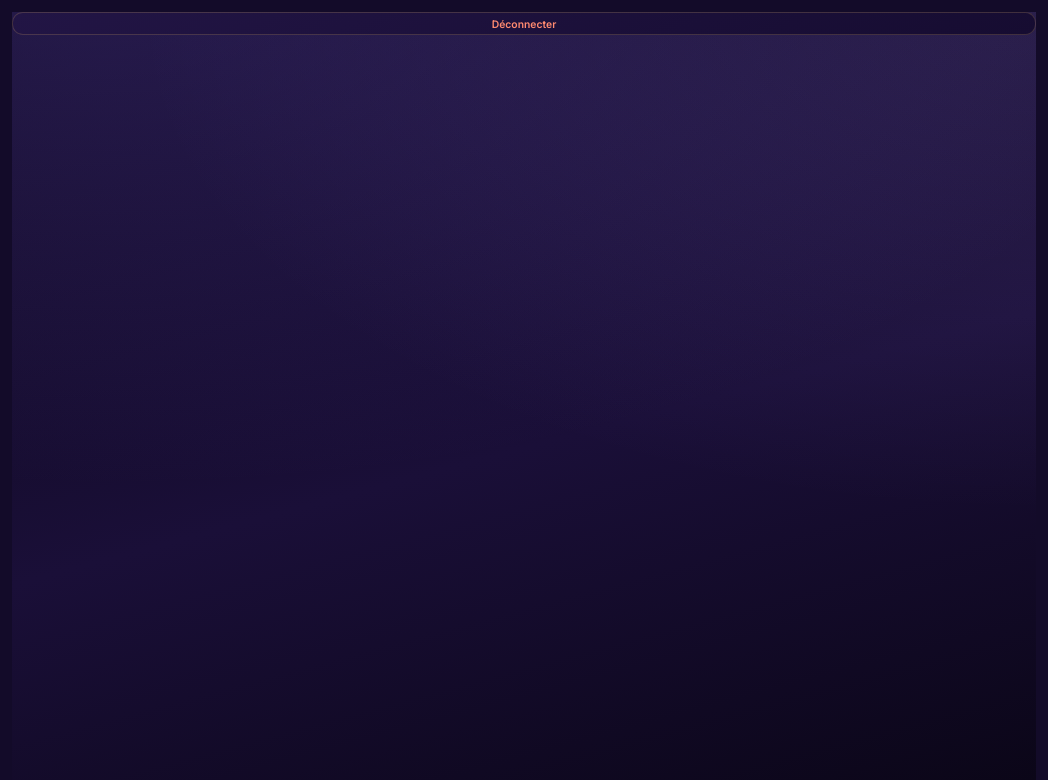
Test: BoutonDeconnecterAgenda › renonce sans rien appeler si on annule
Step 1. Click the button "Déconnecter" → (524, 24), box [12,12,1036,35]
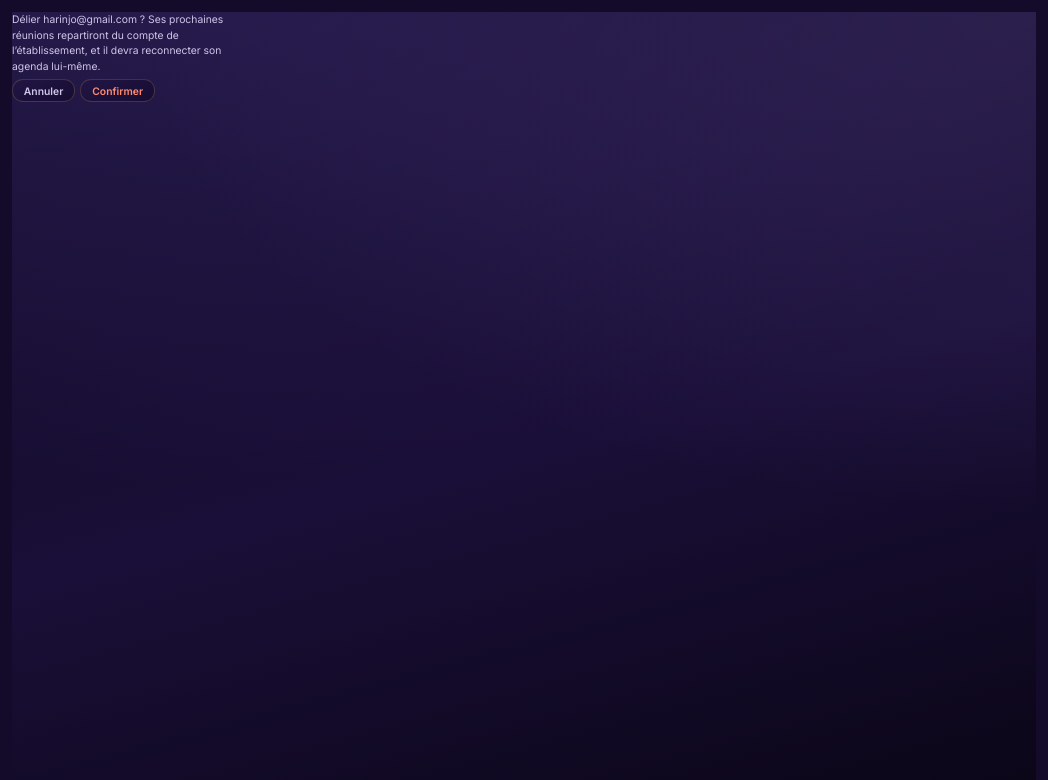
Step 2. Click the button "Annuler" → (44, 91), box [12,80,75,102]
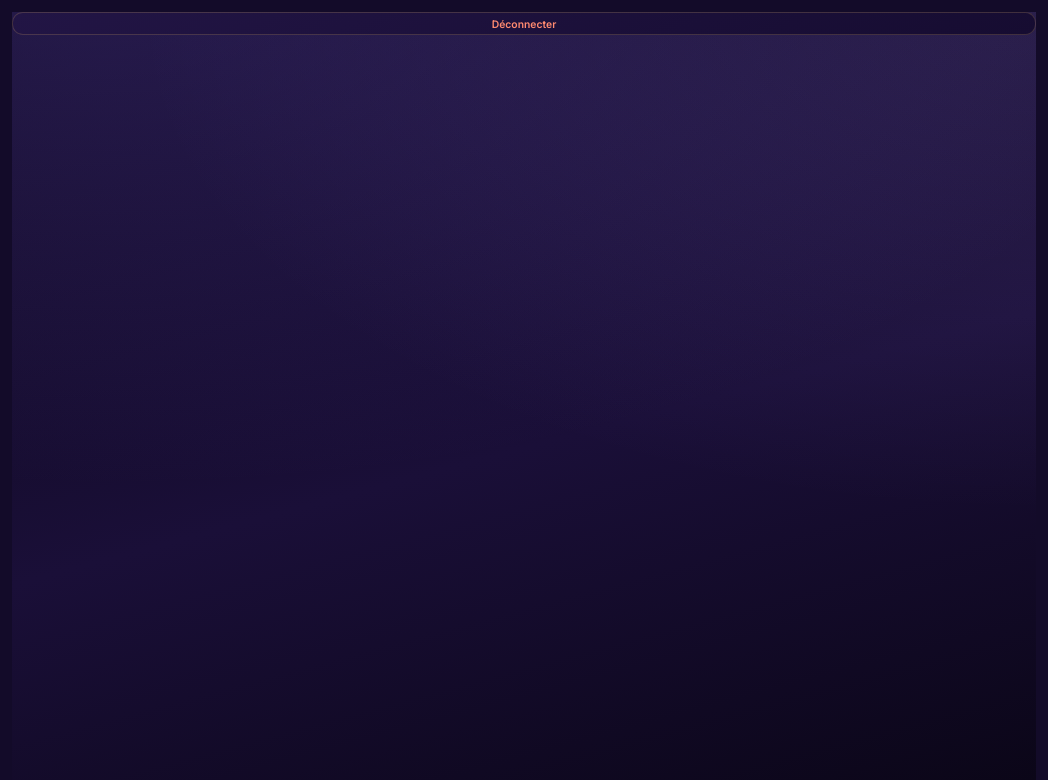
Check: the button "Déconnecter" is shown, box [12,12,1036,35]
